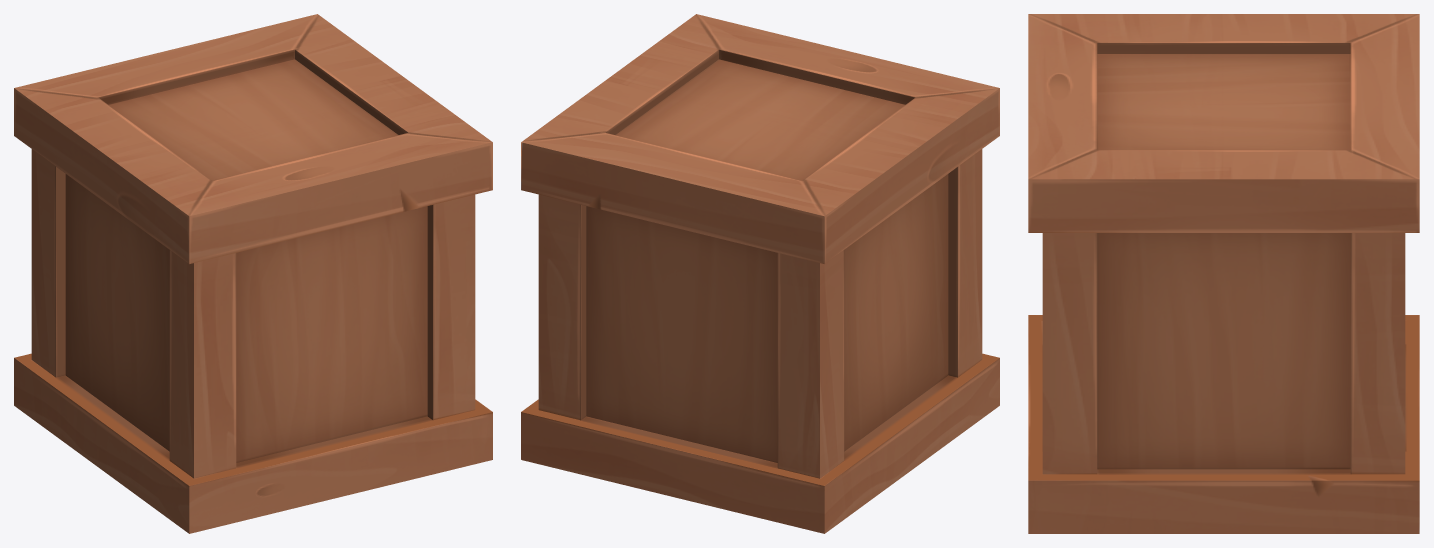
Rendered from kutija sto fali.fbx.
3 views of the same model, side by side, from view 1: azimuth 30°, elevation 25°; view 2: azimuth 150°, elevation 25°; view 3: azimuth 270°, elevation 25° (orthographic). The views are drawn at different scales.
Parts seen in each view (by area): view 1: Cube.017; view 2: Cube.017; view 3: Cube.017.
Boxes of the visible parts, bbox=[...] form: Cube.017: bbox=[14, 14, 492, 533]; Cube.017: bbox=[521, 14, 999, 533]; Cube.017: bbox=[1028, 14, 1419, 533].
Bounding box in the file's own units: 200 × 200 × 200.
1 material, 1 textured.
